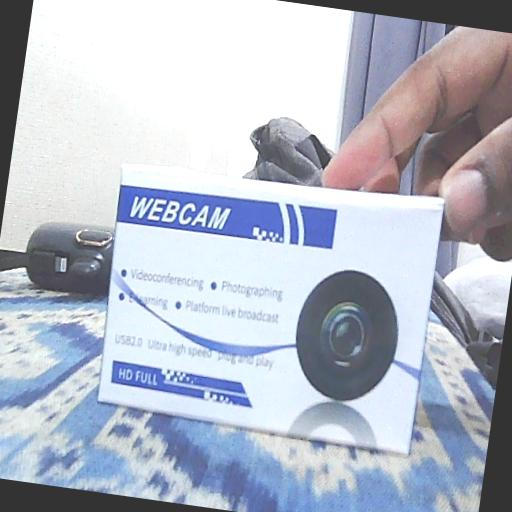webcam_box: (88, 156, 446, 456)
